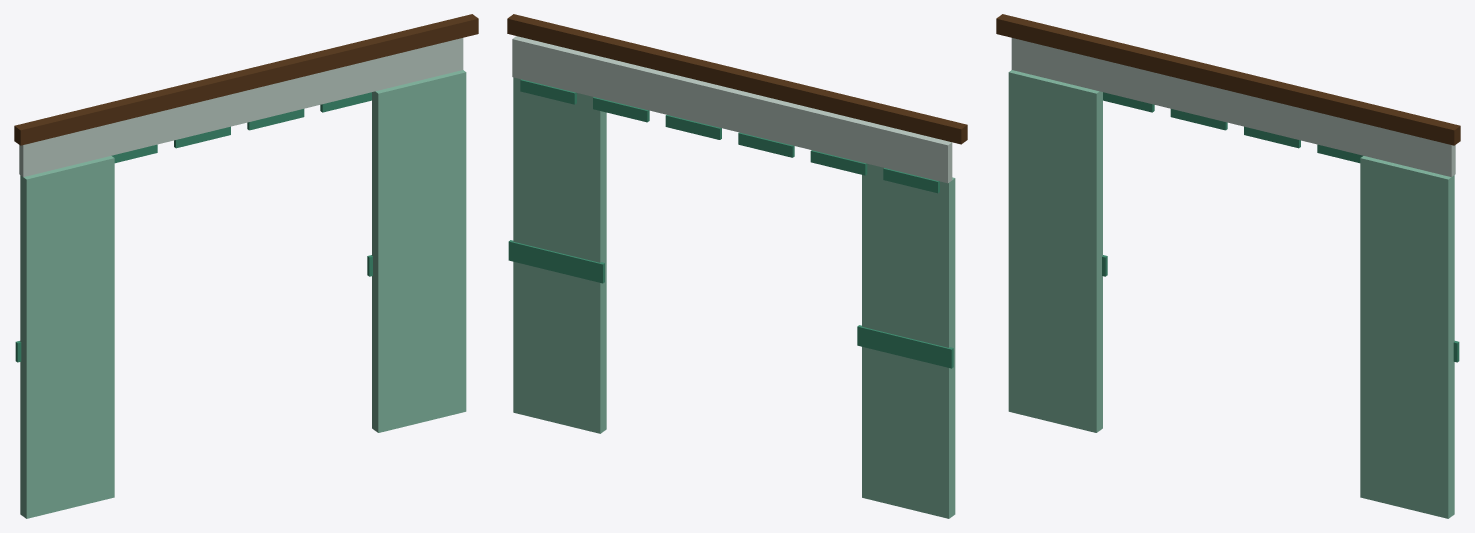
File: ncb-curtains-mint.glb
3 views of the same model, side by side, from view 1: azimuth 30°, elevation 25°; view 2: azimuth 150°, elevation 25°; view 3: azimuth 330°, elevation 25° (orthographic).
Visible parts, largest first — view 1: box-prop; view 2: box-prop; view 3: box-prop.
Part boxes in pixels (bbox=[...]): box-prop: bbox=[14, 14, 478, 518]; box-prop: bbox=[507, 14, 967, 518]; box-prop: bbox=[996, 14, 1460, 518].
Bounding box in the file's own units: 2.5 × 2.05 × 0.11.
